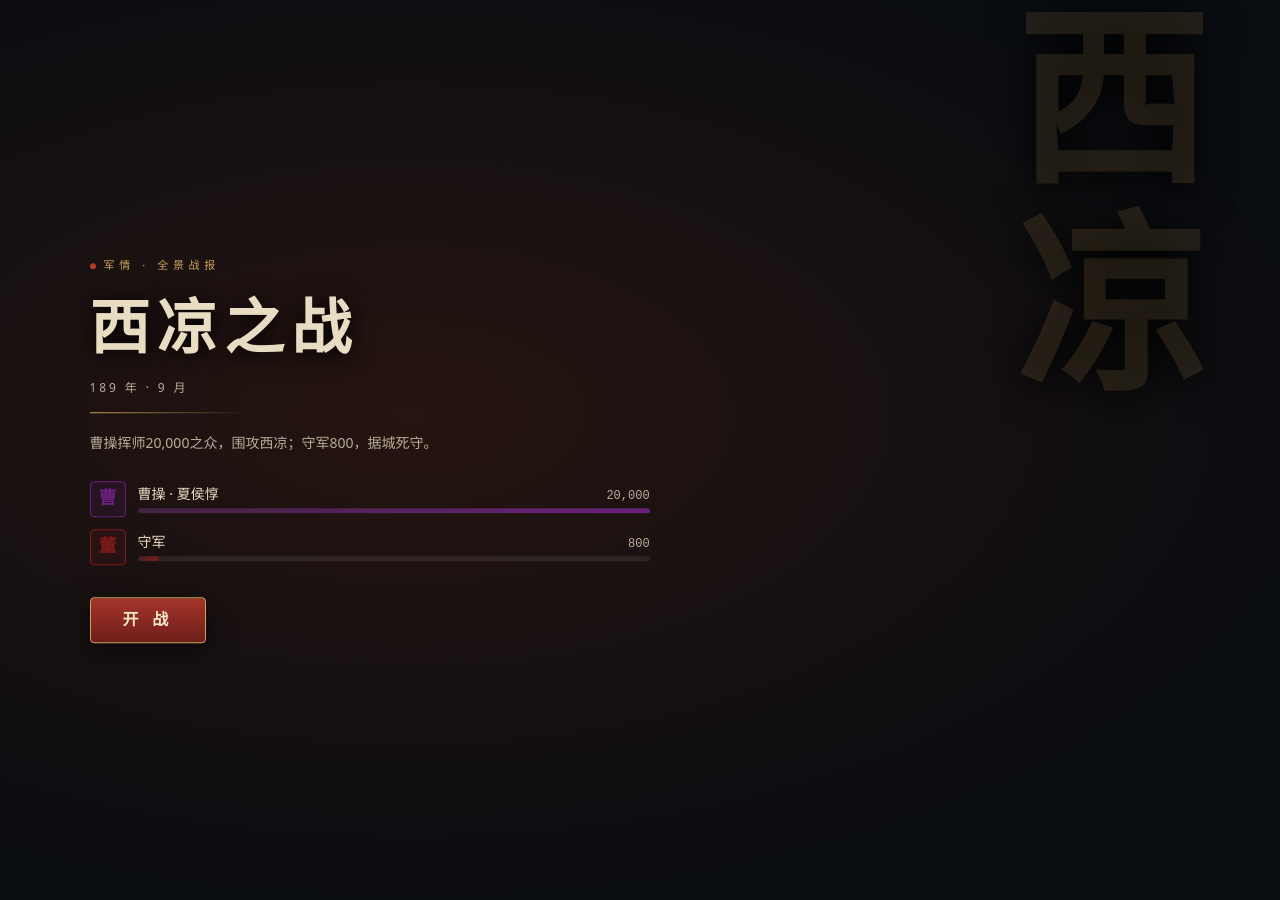
Scenario: BattleScreen › shows the pivotal prompt (Continue watching) while auto-playing on a salient decision
The width and height of the screenshot is (1280, 900).
Click the button "开 战": (148, 620) [90,597,206,643]
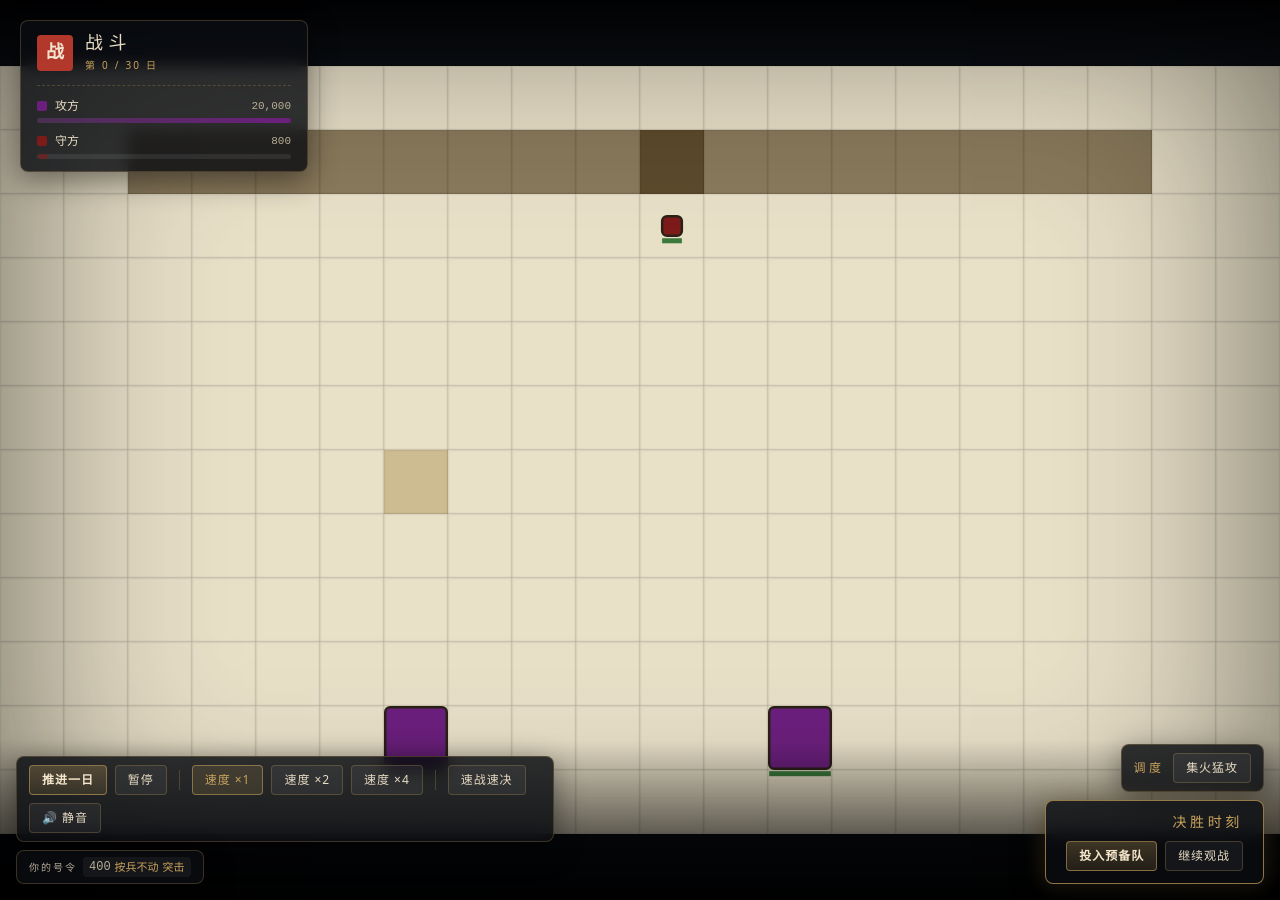
Now the button "继续观战" is shown, box [1165,841,1243,871]
